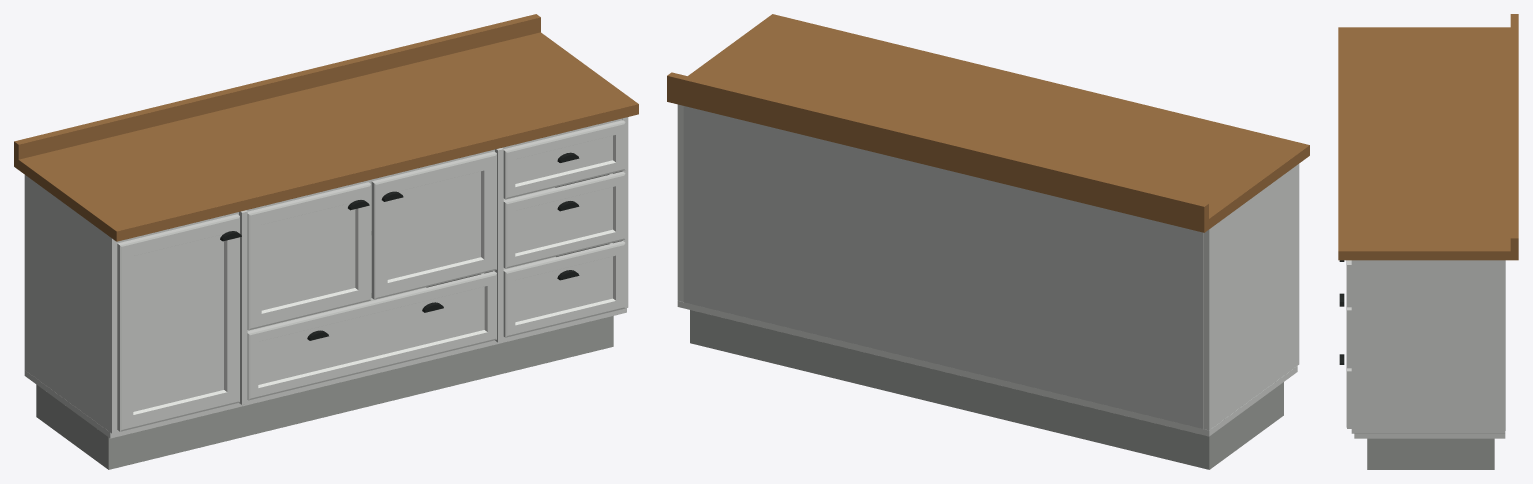
File: Mesada_madera_con_cajones.fbx
3 renders of one model, left to right at view 1: azimuth 30°, elevation 25°; view 2: azimuth 150°, elevation 25°; view 3: azimuth 270°, elevation 25°, orthographic. The views are drawn at different scales.
Visible parts, largest first — view 1: Tapa de madera - 200 x 68 cm, Puerta izquierda, Lateral izquierdo, Zocalo retranqueado, Frente de cajon central grande, Compuerta central derecha, Compuerta central izquierda, Alzada trasera de madera, Frente de cajon derecho medio, Frente de cajon derecho inferior, Frente de cajon derecho superior, Piso blanco del mueble (+4 smaller); view 2: Fondo interior, Tapa de madera - 200 x 68 cm, Zocalo retranqueado, Lateral izquierdo, Alzada trasera de madera, Piso blanco del mueble, Lateral derecho; view 3: Tapa de madera - 200 x 68 cm, Lateral derecho, Zocalo retranqueado, Alzada trasera de madera, Piso blanco del mueble, Frente de cajon derecho medio, Frente de cajon derecho inferior, Frente de cajon derecho superior.
Boxes of the visible parts, x1,y1,x2,y2 form: Tapa de madera - 200 x 68 cm: [14, 32, 638, 241]; Puerta izquierda: [117, 214, 239, 431]; Lateral izquierdo: [24, 175, 117, 433]; Zocalo retranqueado: [36, 316, 613, 469]; Frente de cajon central grande: [247, 271, 496, 400]; Compuerta central derecha: [371, 151, 496, 299]; Compuerta central izquierda: [247, 182, 371, 330]; Alzada trasera de madera: [14, 14, 540, 159]; Frente de cajon derecho medio: [503, 171, 625, 268]; Frente de cajon derecho inferior: [503, 241, 625, 337]; Frente de cajon derecho superior: [503, 120, 625, 199]; Piso blanco del mueble: [24, 308, 626, 438]; Fondo interior: [683, 106, 1203, 428]; Tapa de madera - 200 x 68 cm: [667, 14, 1309, 232]; Zocalo retranqueado: [690, 310, 1283, 469]; Lateral izquierdo: [1203, 164, 1299, 430]; Alzada trasera de madera: [667, 72, 1208, 222]; Piso blanco del mueble: [677, 301, 1297, 436]; Lateral derecho: [677, 104, 683, 301]; Tapa de madera - 200 x 68 cm: [1338, 27, 1518, 260]; Lateral derecho: [1351, 260, 1505, 433]; Zocalo retranqueado: [1367, 438, 1494, 469]; Alzada trasera de madera: [1510, 14, 1518, 251]; Piso blanco del mueble: [1354, 433, 1505, 438]; Frente de cajon derecho medio: [1346, 306, 1351, 368]; Frente de cajon derecho inferior: [1346, 367, 1351, 428]; Frente de cajon derecho superior: [1346, 260, 1351, 307].
Bounding box in the file's own units: 1259 × 617 × 428.
